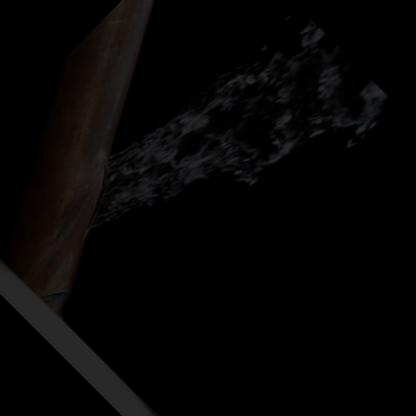burst: (76, 121, 139, 249)
